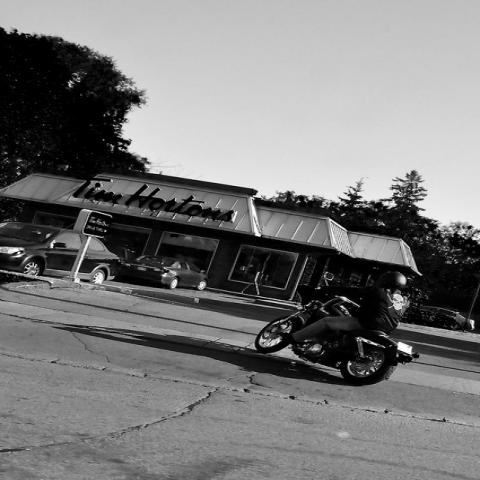car: (0, 222, 119, 284), (122, 256, 210, 289), (420, 306, 475, 330), (104, 243, 139, 262)
motorcycle: (256, 273, 418, 385)
